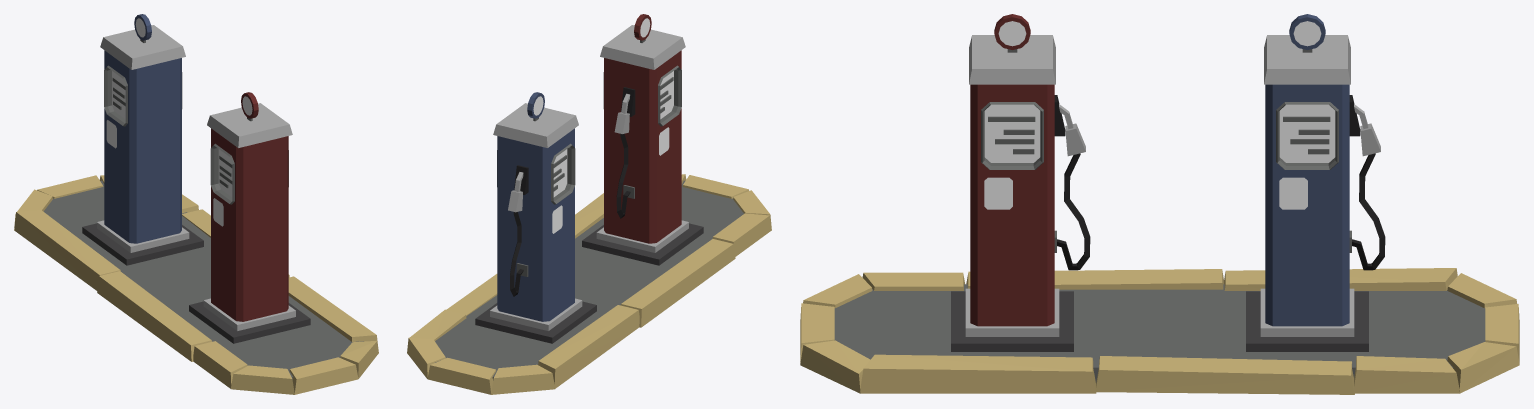
Rendered from SM_gasPumpsOld.gltf.
3 views of the same model, side by side, from view 1: azimuth 30°, elevation 25°; view 2: azimuth 150°, elevation 25°; view 3: azimuth 270°, elevation 25° (orthographic). The views are drawn at different scales.
Visible parts, largest first — view 1: SM_gasPumpsOld; view 2: SM_gasPumpsOld; view 3: SM_gasPumpsOld.
Boxes of the visible parts, bbox=[...] form: SM_gasPumpsOld: bbox=[14, 14, 378, 394]; SM_gasPumpsOld: bbox=[407, 14, 771, 394]; SM_gasPumpsOld: bbox=[800, 14, 1519, 394].
Bounding box in the file's own units: 1.23 × 1.84 × 3.66.
Materials: 1 (1 with a texture image).
